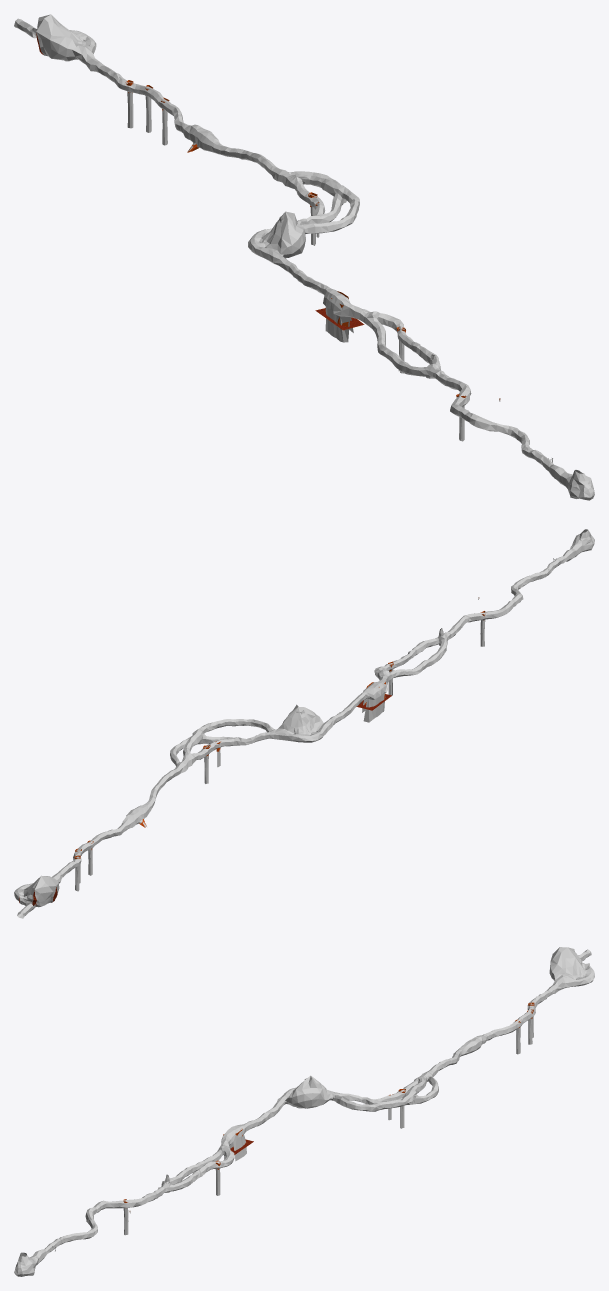
File: passage3.obj
3 views of the same model, one above another, from view 1: azimuth 30°, elevation 25°; view 2: azimuth 150°, elevation 25°; view 3: azimuth 330°, elevation 25° (orthographic). The views are drawn at different scales.
Parts seen in each view (by area): view 1: MainObject_MainObject.001; view 2: MainObject_MainObject.001; view 3: MainObject_MainObject.001.
Boxes of the visible parts, left/top/right/bottom form: MainObject_MainObject.001: left=14, top=14, right=594, bottom=500; MainObject_MainObject.001: left=14, top=529, right=594, bottom=918; MainObject_MainObject.001: left=14, top=947, right=594, bottom=1276.
Size of the model in its own units: 166 by 92.59 by 1147.
